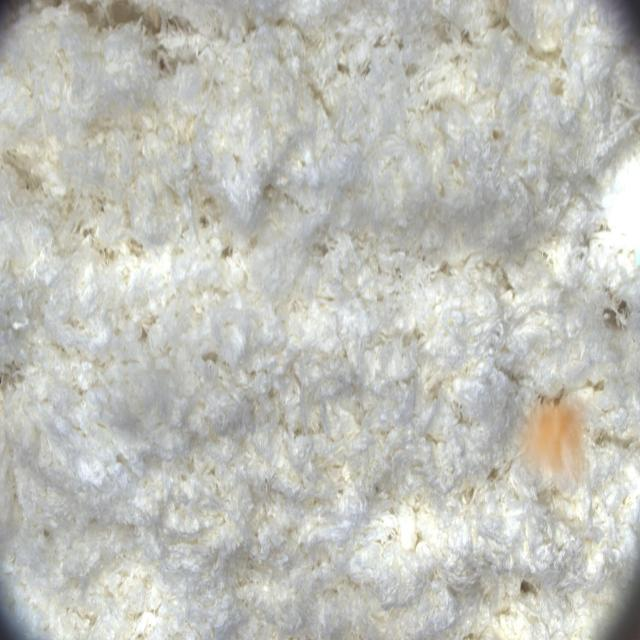dust: (513, 386, 595, 487)
